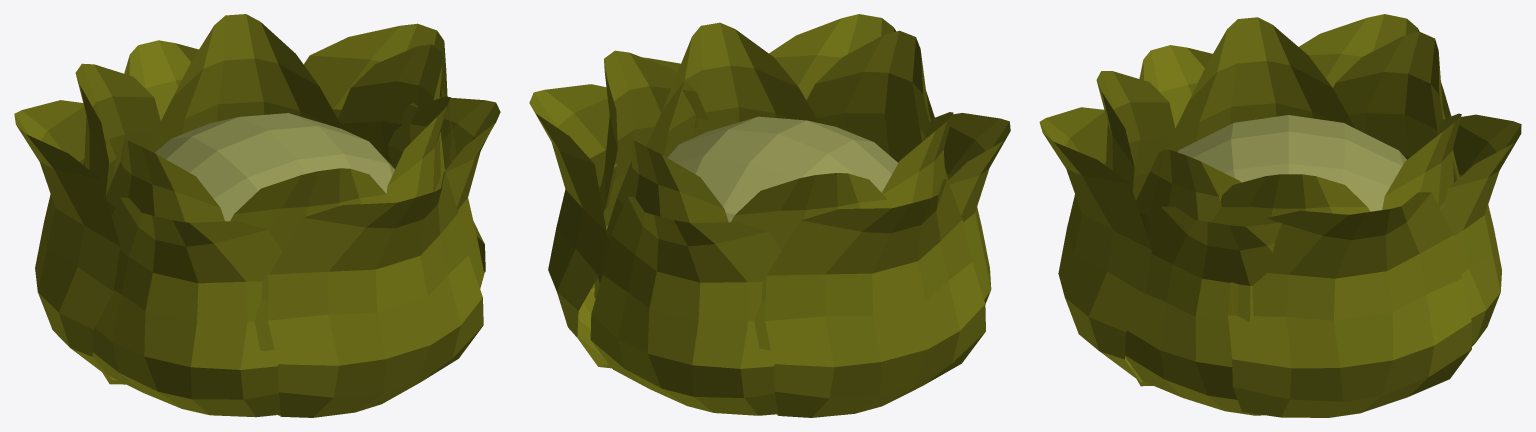
The model's file is lettuce.fbx.
3 views of the same model, side by side, from view 1: azimuth 30°, elevation 25°; view 2: azimuth 150°, elevation 25°; view 3: azimuth 270°, elevation 25° (orthographic).
Visible parts, largest first — view 1: lettuce; view 2: lettuce; view 3: lettuce.
Part boxes in pixels (box(x1,y1,x2,y2)): lettuce: box(14, 14, 500, 417); lettuce: box(529, 14, 1010, 417); lettuce: box(1039, 14, 1521, 417).
Bounding box in the file's own units: 208 × 137 × 213.
